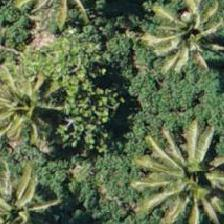coconut_tree: (151, 131, 223, 221), (140, 0, 223, 74), (0, 58, 63, 148), (0, 167, 58, 223)
